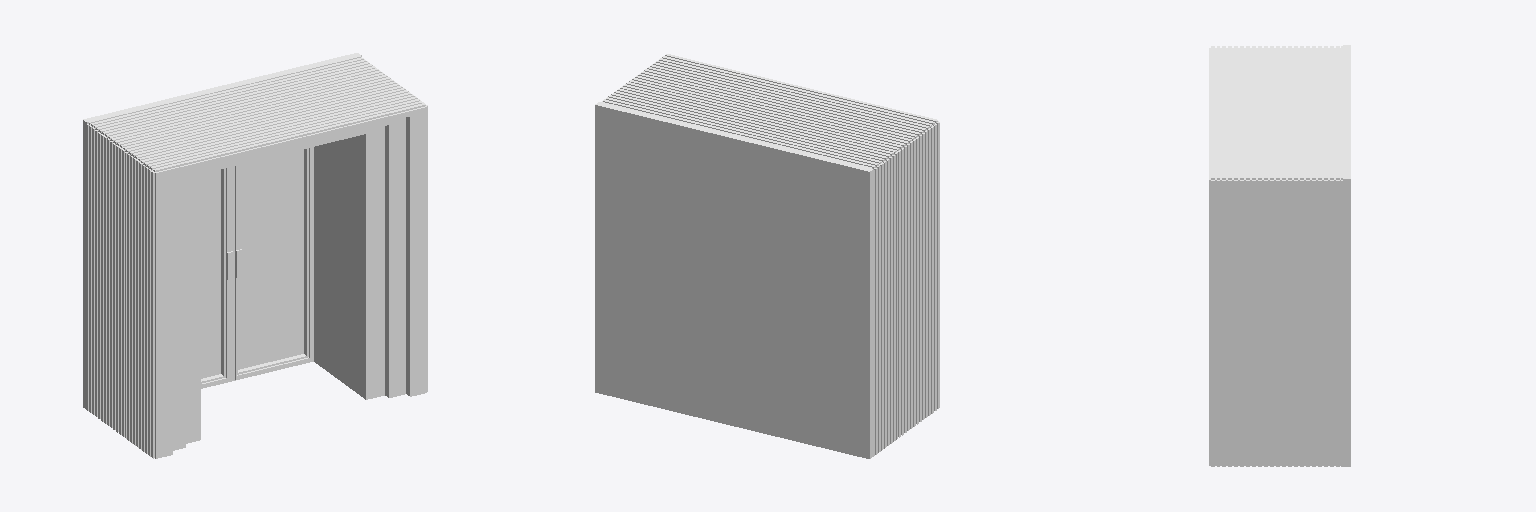
Rendered from entrance2-2-lod1.obj.
3 views of the same model, side by side, from view 1: azimuth 30°, elevation 25°; view 2: azimuth 150°, elevation 25°; view 3: azimuth 270°, elevation 25° (orthographic).
Visible parts, largest first — view 1: lod1; view 2: lod1; view 3: lod1.
Boxes of the visible parts, x1=… form: lod1: x1=83, y1=53, x2=427, y2=458; lod1: x1=595, y1=54, x2=939, y2=458; lod1: x1=1209, y1=45, x2=1350, y2=466.
Bounding box in the file's own units: 16 × 16 × 7.2.